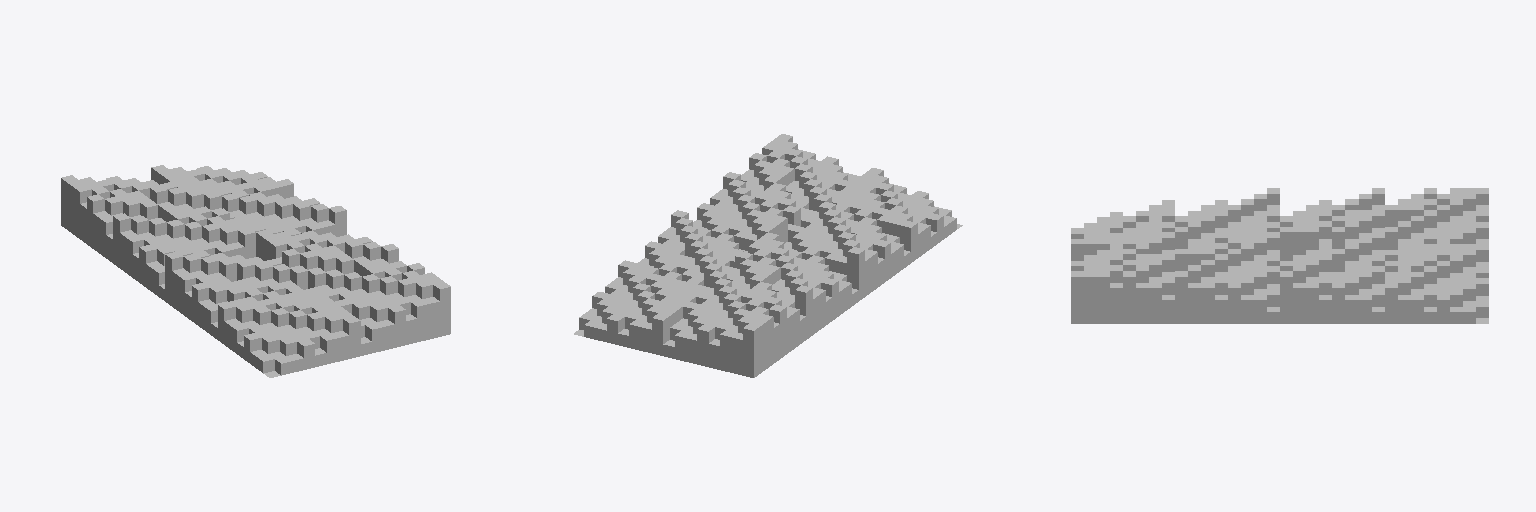
The picture shows the model from 3 angles: view 1: azimuth 30°, elevation 25°; view 2: azimuth 150°, elevation 25°; view 3: azimuth 270°, elevation 25°; orthographic projection.
Visible parts, largest first — view 1: Object(16,32)[length_4], Object(8,32)[length_3], Object(14,32)[length_3], Object(12,32)[length_3], Object(1,9)[length_4], Object(1,17)[length_4]; view 2: Object(1,1)[length_4], Object(1,17)[length_4], Object(1,9)[length_4], Object(9,1)[length_3], Object(5,1)[length_3], Object(1,25)[length_3]; view 3: Object(16,16)[length_4], Object(16,24)[length_4], Object(16,28)[length_4], Object(16,30)[length_4], Object(16,31)[length_4], Object(16,32)[length_4], Object(16,22)[length_3], Object(16,8)[length_3], Object(16,12)[length_3], Object(16,14)[length_3], Object(16,15)[length_3], Object(16,20)[length_3] (+4 smaller).
Boxes of the visible parts, x1,y1,x2,y2 form: Object(16,32)[length_4]: [433, 282, 450, 336]; Object(8,32)[length_3]: [343, 316, 360, 358]; Object(14,32)[length_3]: [411, 300, 428, 341]; Object(12,32)[length_3]: [388, 305, 405, 347]; Object(1,9)[length_4]: [113, 213, 130, 267]; Object(1,17)[length_4]: [165, 252, 182, 305]; Object(1,1)[length_4]: [743, 324, 760, 377]; Object(1,17)[length_4]: [847, 247, 864, 300]; Object(1,9)[length_4]: [795, 285, 812, 339]; Object(9,1)[length_3]: [652, 313, 669, 355]; Object(5,1)[length_3]: [697, 324, 714, 366]; Object(1,25)[length_3]: [900, 220, 917, 262]; Object(16,16)[length_4]: [1280, 271, 1292, 323]; Object(16,24)[length_4]: [1175, 271, 1187, 323]; Object(16,28)[length_4]: [1123, 271, 1135, 323]; Object(16,30)[length_4]: [1097, 271, 1109, 323]; Object(16,31)[length_4]: [1084, 271, 1096, 323]; Object(16,32)[length_4]: [1071, 271, 1083, 323]; Object(16,22)[length_3]: [1201, 283, 1214, 323]; Object(16,8)[length_3]: [1385, 283, 1397, 323]; Object(16,12)[length_3]: [1332, 283, 1344, 323]; Object(16,14)[length_3]: [1306, 283, 1318, 323]; Object(16,15)[length_3]: [1293, 283, 1305, 323]; Object(16,20)[length_3]: [1228, 283, 1240, 323].
Size of the model in its own units: 16 by 4 by 32.